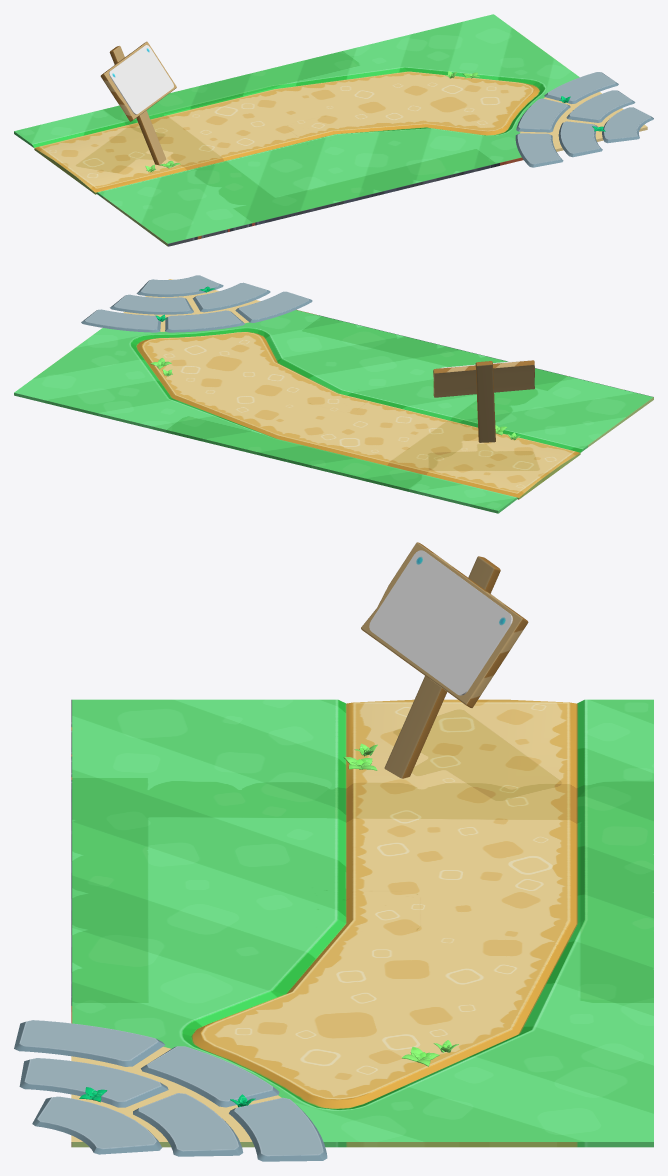
Rendered from S1_OutF_Field_002.fbx.
3 views of the same model, one above another, from view 1: azimuth 30°, elevation 25°; view 2: azimuth 150°, elevation 25°; view 3: azimuth 270°, elevation 25° (orthographic). The views are drawn at different scales.
Visible parts, largest first — view 1: group147_group127_pCube149, group147_group127_pCube151; view 2: group147_group127_pCube149, group147_group127_pCube151; view 3: group147_group127_pCube149, group147_group127_pCube151.
Boxes of the visible parts, x1,y1,x2,y2 form: group147_group127_pCube149: [14, 14, 653, 246]; group147_group127_pCube151: [100, 41, 176, 165]; group147_group127_pCube149: [14, 275, 653, 513]; group147_group127_pCube151: [433, 360, 534, 442]; group147_group127_pCube149: [14, 699, 653, 1161]; group147_group127_pCube151: [361, 542, 528, 778].
Bounding box in the file's own units: 14.22 × 2.9 × 8.31.
